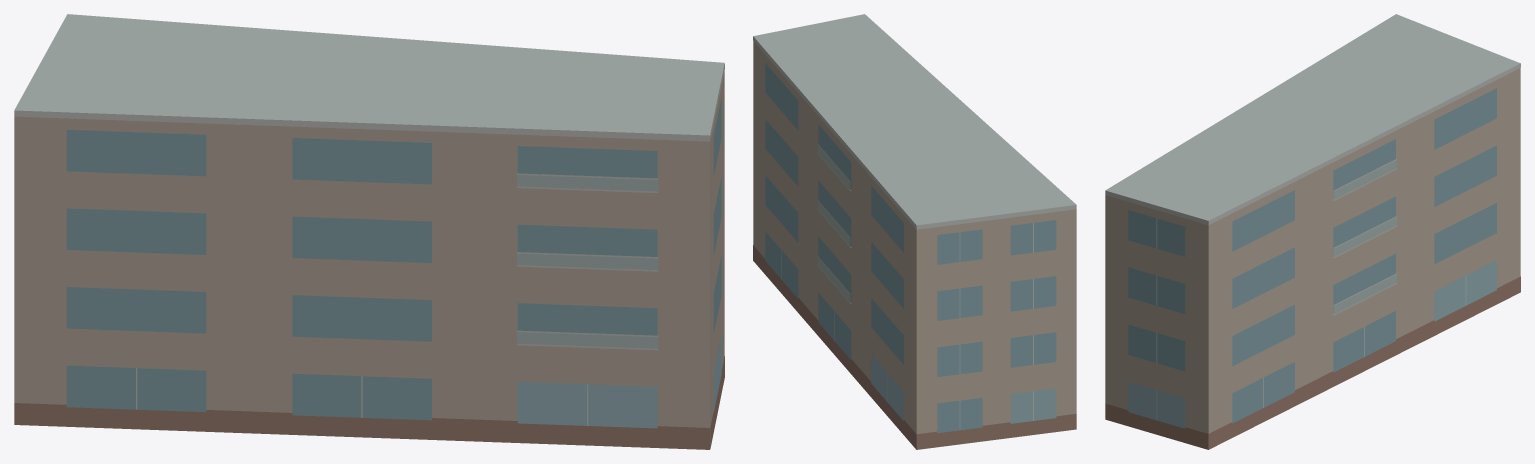
The model's file is survey-upis-32496951.glb.
3 views of the same model, side by side, from view 1: azimuth 30°, elevation 25°; view 2: azimuth 150°, elevation 25°; view 3: azimuth 270°, elevation 25° (orthographic). The views are drawn at different scales.
Parts seen in each view (by area): view 1: survey-upis-32496951.tmp; view 2: survey-upis-32496951.tmp; view 3: survey-upis-32496951.tmp.
Part boxes in pixels (x1,y1,x2,y2): survey-upis-32496951.tmp: (14, 14, 724, 449); survey-upis-32496951.tmp: (753, 14, 1076, 449); survey-upis-32496951.tmp: (1105, 14, 1520, 449).
Size of the model in its own units: 24.41 by 12.6 by 20.72.
